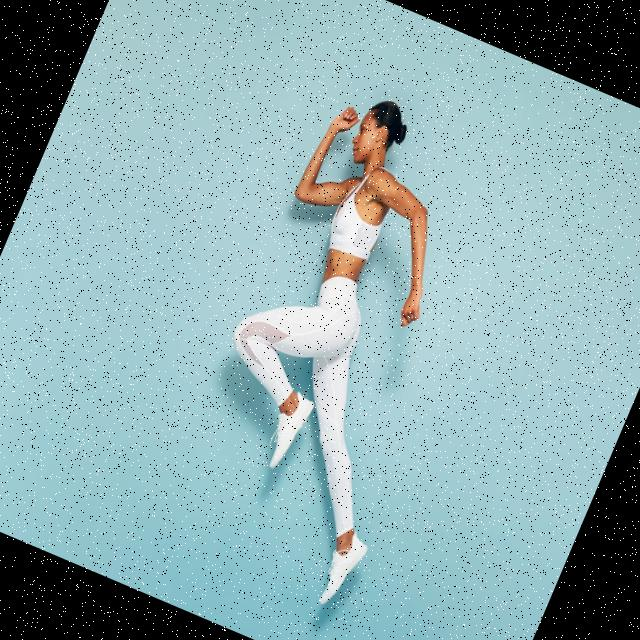Person: (150, 80, 533, 612)
